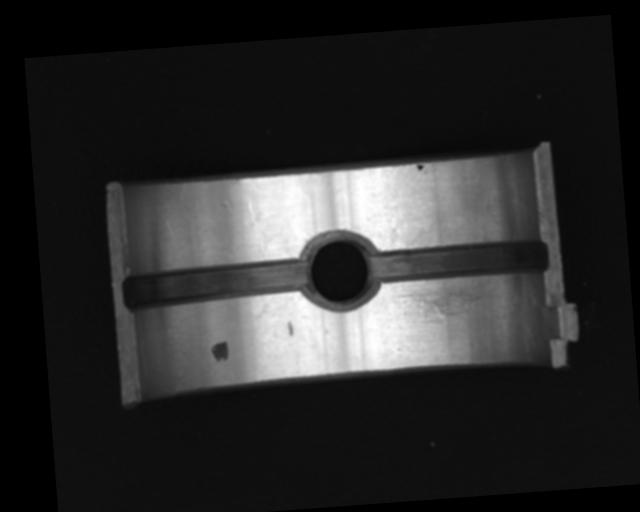blot: (210, 340, 230, 363), (416, 162, 428, 175)
bruise: (286, 321, 293, 337)
gap: (122, 259, 312, 314), (370, 238, 549, 281)
hole: (302, 228, 380, 311)
nick: (246, 200, 265, 259)
scratch: (390, 282, 509, 320)
